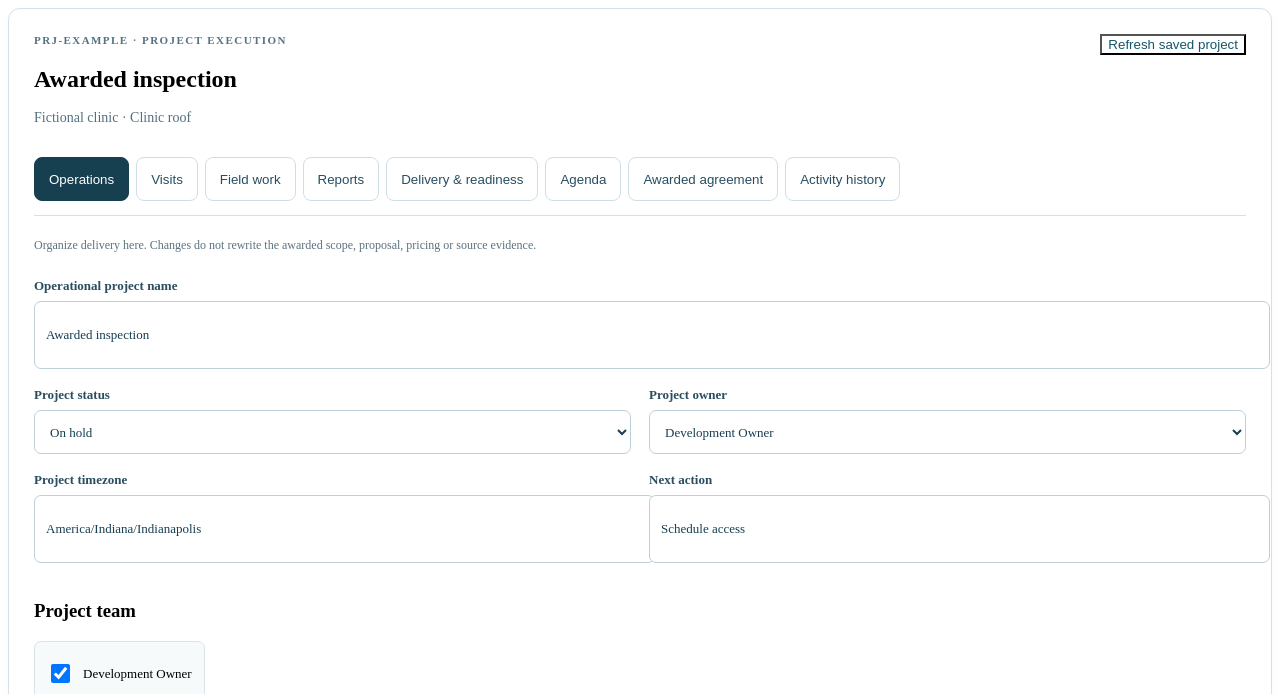
Test: CPL project execution workspace › makes completed visits read only and blocks new visits on a held project
Expected: the field labelled "Operational project name" is shown, [34, 301, 1270, 369]
Expected: the button "Refresh saved project" is enabled, [1100, 34, 1246, 55]
Click the button "Visits" at (167, 179), box [136, 157, 198, 201]
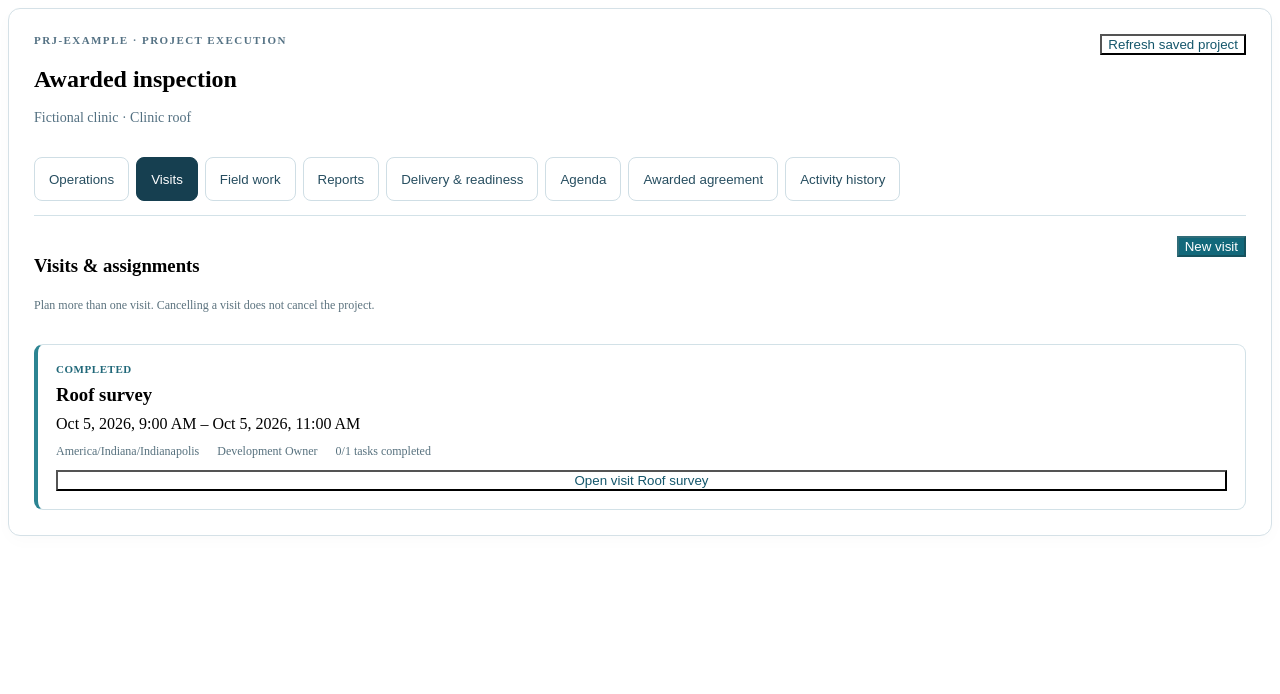
Click the button "Open visit Roof survey" at (642, 480), box [56, 470, 1227, 491]
(page scrolled)
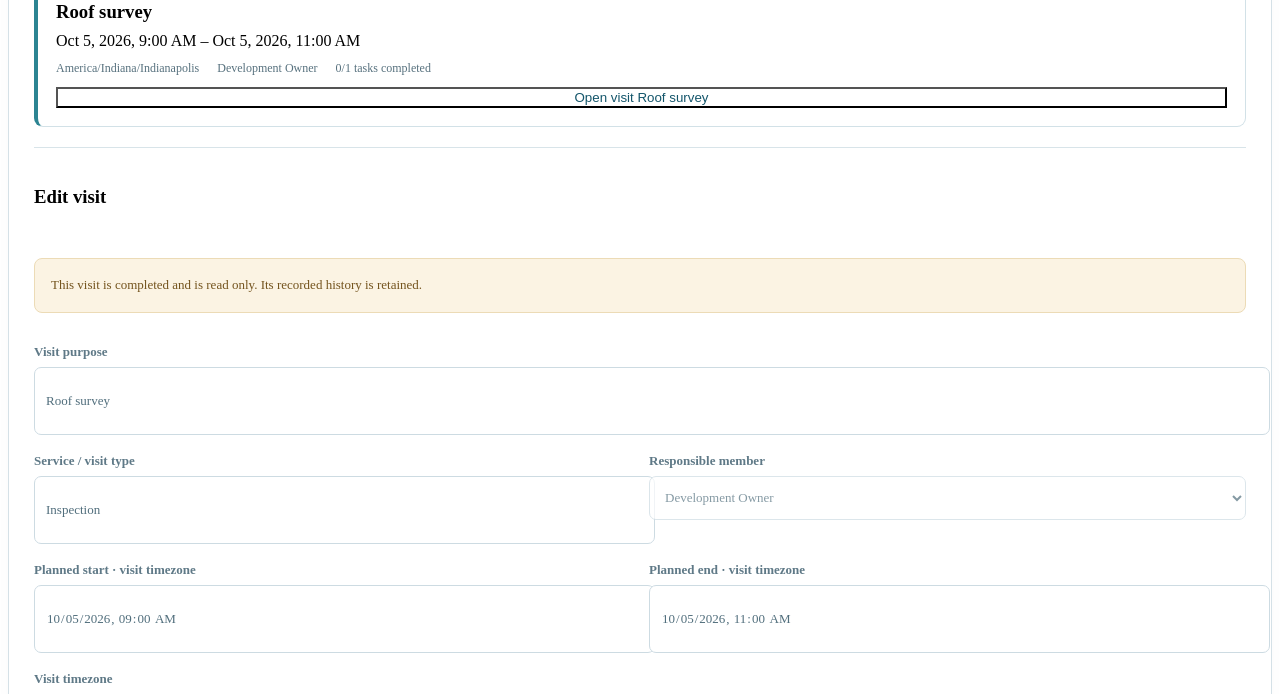
Result: the field labelled "Visit purpose" is disabled at [34, 367, 1270, 435]
